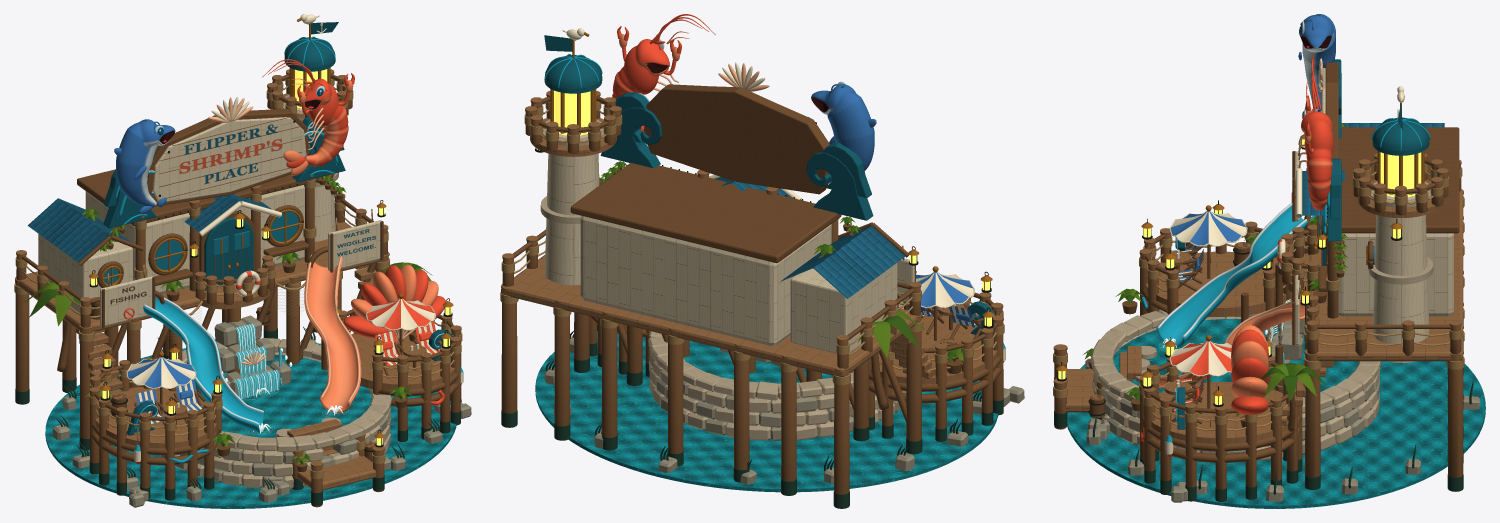
The model's file is flipper-shrimp-ca.glb.
3 renders of one model, left to right at view 1: azimuth 30°, elevation 25°; view 2: azimuth 150°, elevation 25°; view 3: azimuth 270°, elevation 25°, orthographic. The views are drawn at different scales.
Visible parts, largest first — view 1: Flipper and Shrimp C+A; view 2: Flipper and Shrimp C+A; view 3: Flipper and Shrimp C+A.
Part boxes in pixels (x1,y1,x2,y2): Flipper and Shrimp C+A: [14, 14, 471, 508]; Flipper and Shrimp C+A: [500, 14, 1024, 508]; Flipper and Shrimp C+A: [1053, 14, 1485, 508].
Size of the model in its own units: 0.86 by 0.7671 by 0.7818.
37 materials, 14 textured.
